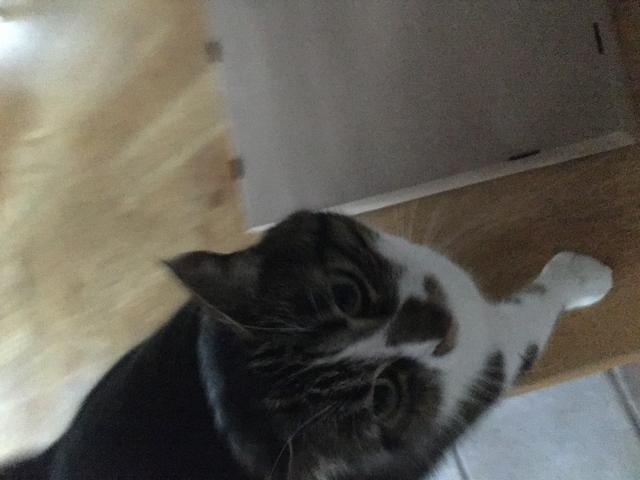playdoh: (1, 203, 615, 480)
